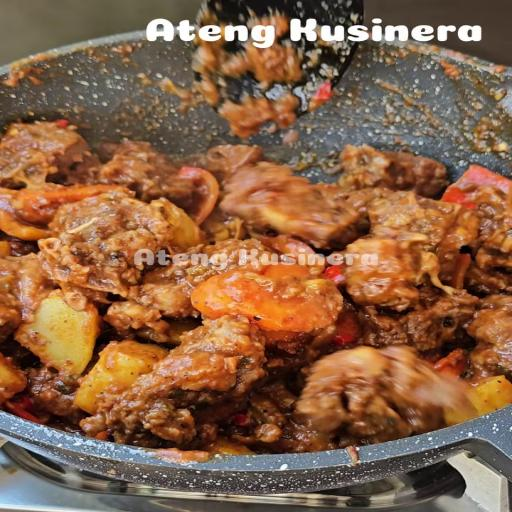pork caldereta: (0, 113, 511, 438)
